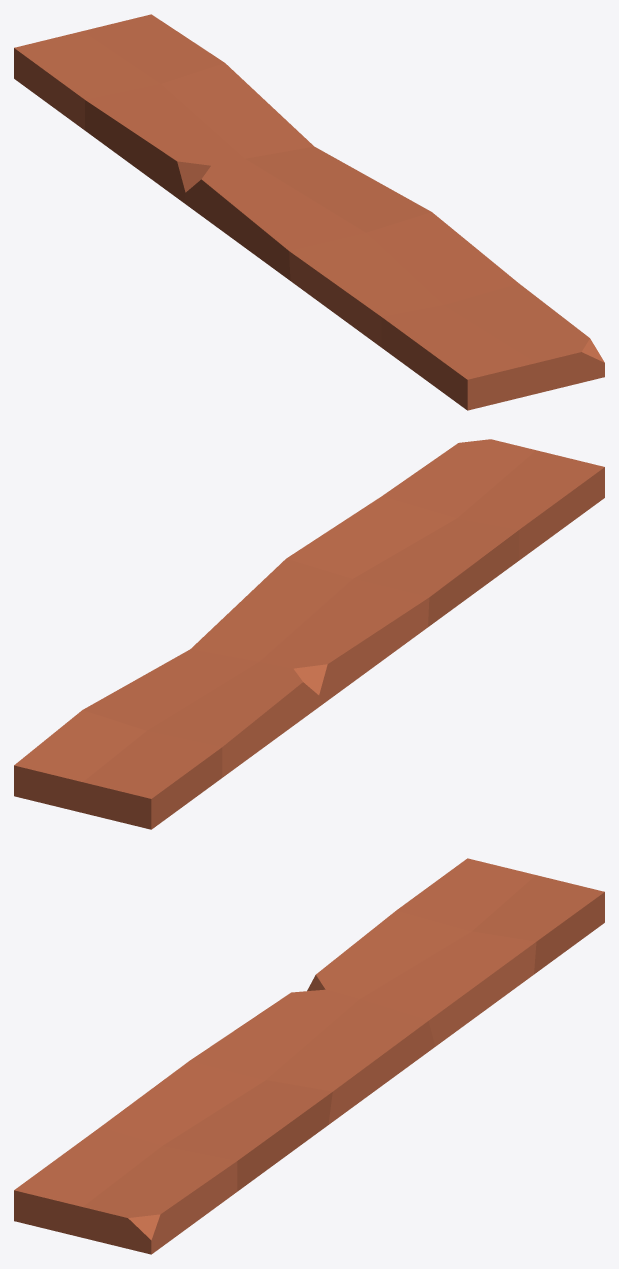
Rendered from WoodenPlank1.fbx.
The picture shows the model from 3 angles, top to bottom: view 1: azimuth 30°, elevation 25°; view 2: azimuth 150°, elevation 25°; view 3: azimuth 330°, elevation 25°; orthographic projection.
Visible parts, largest first — view 1: Plank1; view 2: Plank1; view 3: Plank1.
Boxes of the visible parts, x1,y1,x2,y2 form: Plank1: [14, 14, 604, 410]; Plank1: [14, 439, 604, 829]; Plank1: [14, 858, 604, 1254].
Size of the model in its own units: 146 by 33.41 by 800.
